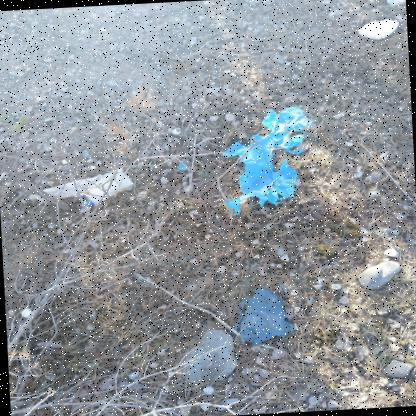Plastic film: (222, 106, 315, 214), (233, 287, 293, 346), (42, 168, 134, 205), (29, 194, 46, 202), (81, 196, 93, 205), (177, 162, 186, 170)
Styrofoam piece: (358, 18, 399, 39)
